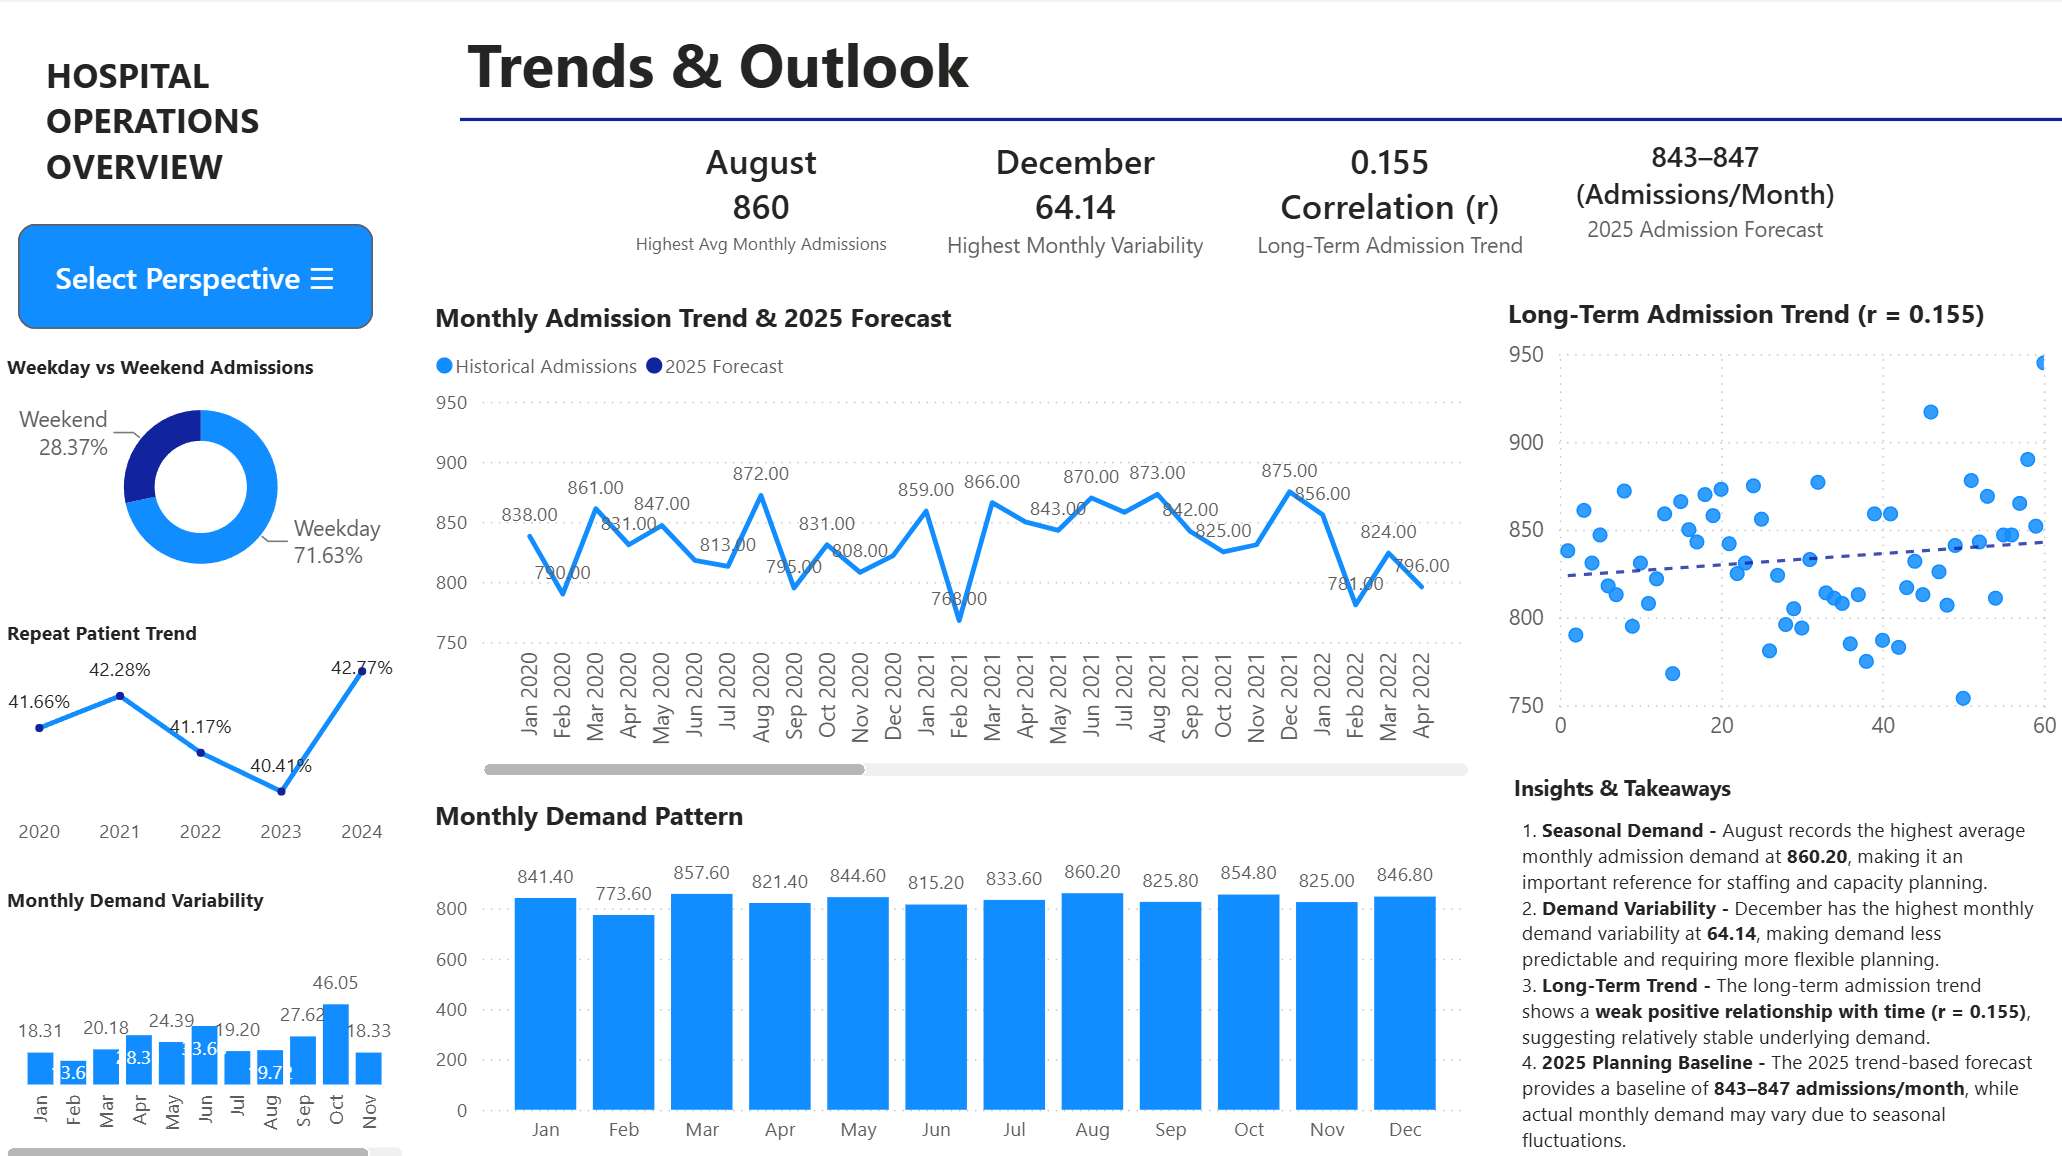

The page's visual inventory and layout, read from the dashboard file:
{"tool":"powerbi","page":{"name":"Page 5 - Trends & Outlook","canvas":[1280,720],"ordinal":4},"visuals":[{"type":"shape","box":[930.1,475.2,350.1,244.8],"z":0},{"type":"shape","box":[265,0,1000,180],"z":1000},{"type":"shape","box":[0,0,250,720],"z":2000},{"type":"textbox","box":[24,28,195,100],"z":3000},{"type":"scatterChart","title":"Long-Term Admission Trend (r = 0.155)","fields":{"X":["Calendar.month_index"],"Y":["Measures (2).Total Admissions"]},"box":[930,184.8,350,284.6],"z":4000},{"type":"clusteredColumnChart","title":"Monthly Demand Variability","fields":{"Category":["Calendar.month_short"],"Y":["Measures (2).Monthly Demand Variability"]},"box":[0,550,250,170],"z":5000},{"type":"cardVisual","fields":{"Data":["Measures (2).2025 Admission Forecast"]},"box":[967,80,180,90],"z":6000},{"type":"lineChart","title":"Monthly Admission Trend & 2025 Forecast","fields":{"Category":["Forecast Calendar.month_year"],"Y":["Measures (2).Monthly Admissions Trend Forecast","Measures (2).2025 Forecast Line"]},"box":[265,187,650,300],"z":7000},{"type":"clusteredColumnChart","title":"Monthly Demand Pattern","fields":{"Category":["Calendar.month_short"],"Y":["Measures (2).Average Monthly Admissions"]},"box":[265,496,650,223.2],"z":8000},{"type":"textbox","box":[938.8,501.7,330.5,218.5],"z":9000},{"type":"shape","box":[285.4,70,995.8,10.5],"z":10000},{"type":"textbox","box":[285,10,960,60],"z":11000},{"type":"lineChart","title":"Repeat Patient Trend","fields":{"Category":["Calendar.year"],"Y":["Measures (2).Repeat-Admitted Patients %"]},"box":[0,385,250,150],"z":12000},{"type":"donutChart","title":"Weekday vs Weekend Admissions","fields":{"Category":["Admissions.admission_day_type"],"Y":["Measures (2).Weekday / Weekend Admissions"]},"box":[0,220,250,150],"z":13000},{"type":"cardVisual","fields":{"Data":["Measures (2).Highest Average Monthly Admissions KPI"]},"box":[382,80,180,90],"z":14000},{"type":"cardVisual","fields":{"Data":["Measures (2).Highest Demand Variability Month KPI"]},"box":[577,80,180,90],"z":15000},{"type":"textbox","box":[934,475.4,346,27],"z":16000},{"type":"actionButton","title":"Perspective Button","box":[12,140,220,65],"z":17000},{"type":"cardVisual","fields":{"Data":["Measures (2).Long-Term Admission Trend KPI"]},"box":[772,80,180,90],"z":19000}]}

Visuals, with their boxes in screenshot pixels (x1, y1, x2, y2), scaled from the page's 1280x720 canvas onto the 2062x1156 screenshot:
shape: [x1=1498, y1=763, x2=2061, y2=1155]
shape: [x1=427, y1=0, x2=2038, y2=289]
shape: [x1=0, y1=0, x2=403, y2=1155]
textbox: [x1=39, y1=45, x2=353, y2=206]
"Long-Term Admission Trend (r = 0.155)" scatterChart: [x1=1498, y1=297, x2=2061, y2=754]
"Monthly Demand Variability" clusteredColumnChart: [x1=0, y1=883, x2=403, y2=1155]
cardVisual - Measures (2).2025 Admission Forecast: [x1=1558, y1=128, x2=1848, y2=273]
"Monthly Admission Trend & 2025 Forecast" lineChart: [x1=427, y1=300, x2=1474, y2=782]
"Monthly Demand Pattern" clusteredColumnChart: [x1=427, y1=796, x2=1474, y2=1155]
textbox: [x1=1512, y1=806, x2=2045, y2=1155]
shape: [x1=460, y1=112, x2=2061, y2=129]
textbox: [x1=459, y1=16, x2=2006, y2=112]
"Repeat Patient Trend" lineChart: [x1=0, y1=618, x2=403, y2=859]
"Weekday vs Weekend Admissions" donutChart: [x1=0, y1=353, x2=403, y2=594]
cardVisual - Measures (2).Highest Average Monthly Admissions KPI: [x1=615, y1=128, x2=905, y2=273]
cardVisual - Measures (2).Highest Demand Variability Month KPI: [x1=930, y1=128, x2=1219, y2=273]
textbox: [x1=1505, y1=763, x2=2061, y2=807]
"Perspective Button" actionButton: [x1=19, y1=225, x2=374, y2=329]
cardVisual - Measures (2).Long-Term Admission Trend KPI: [x1=1244, y1=128, x2=1534, y2=273]
